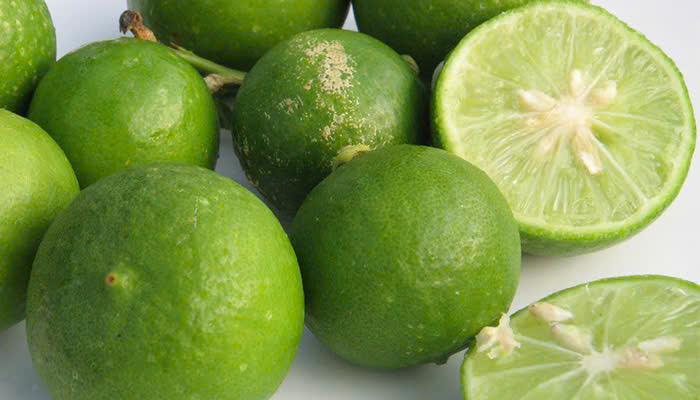lime: (28, 171, 304, 400), (438, 18, 700, 224), (307, 157, 512, 366), (458, 265, 700, 400), (229, 22, 431, 165), (37, 38, 227, 169), (125, 0, 366, 69), (0, 106, 69, 322)
